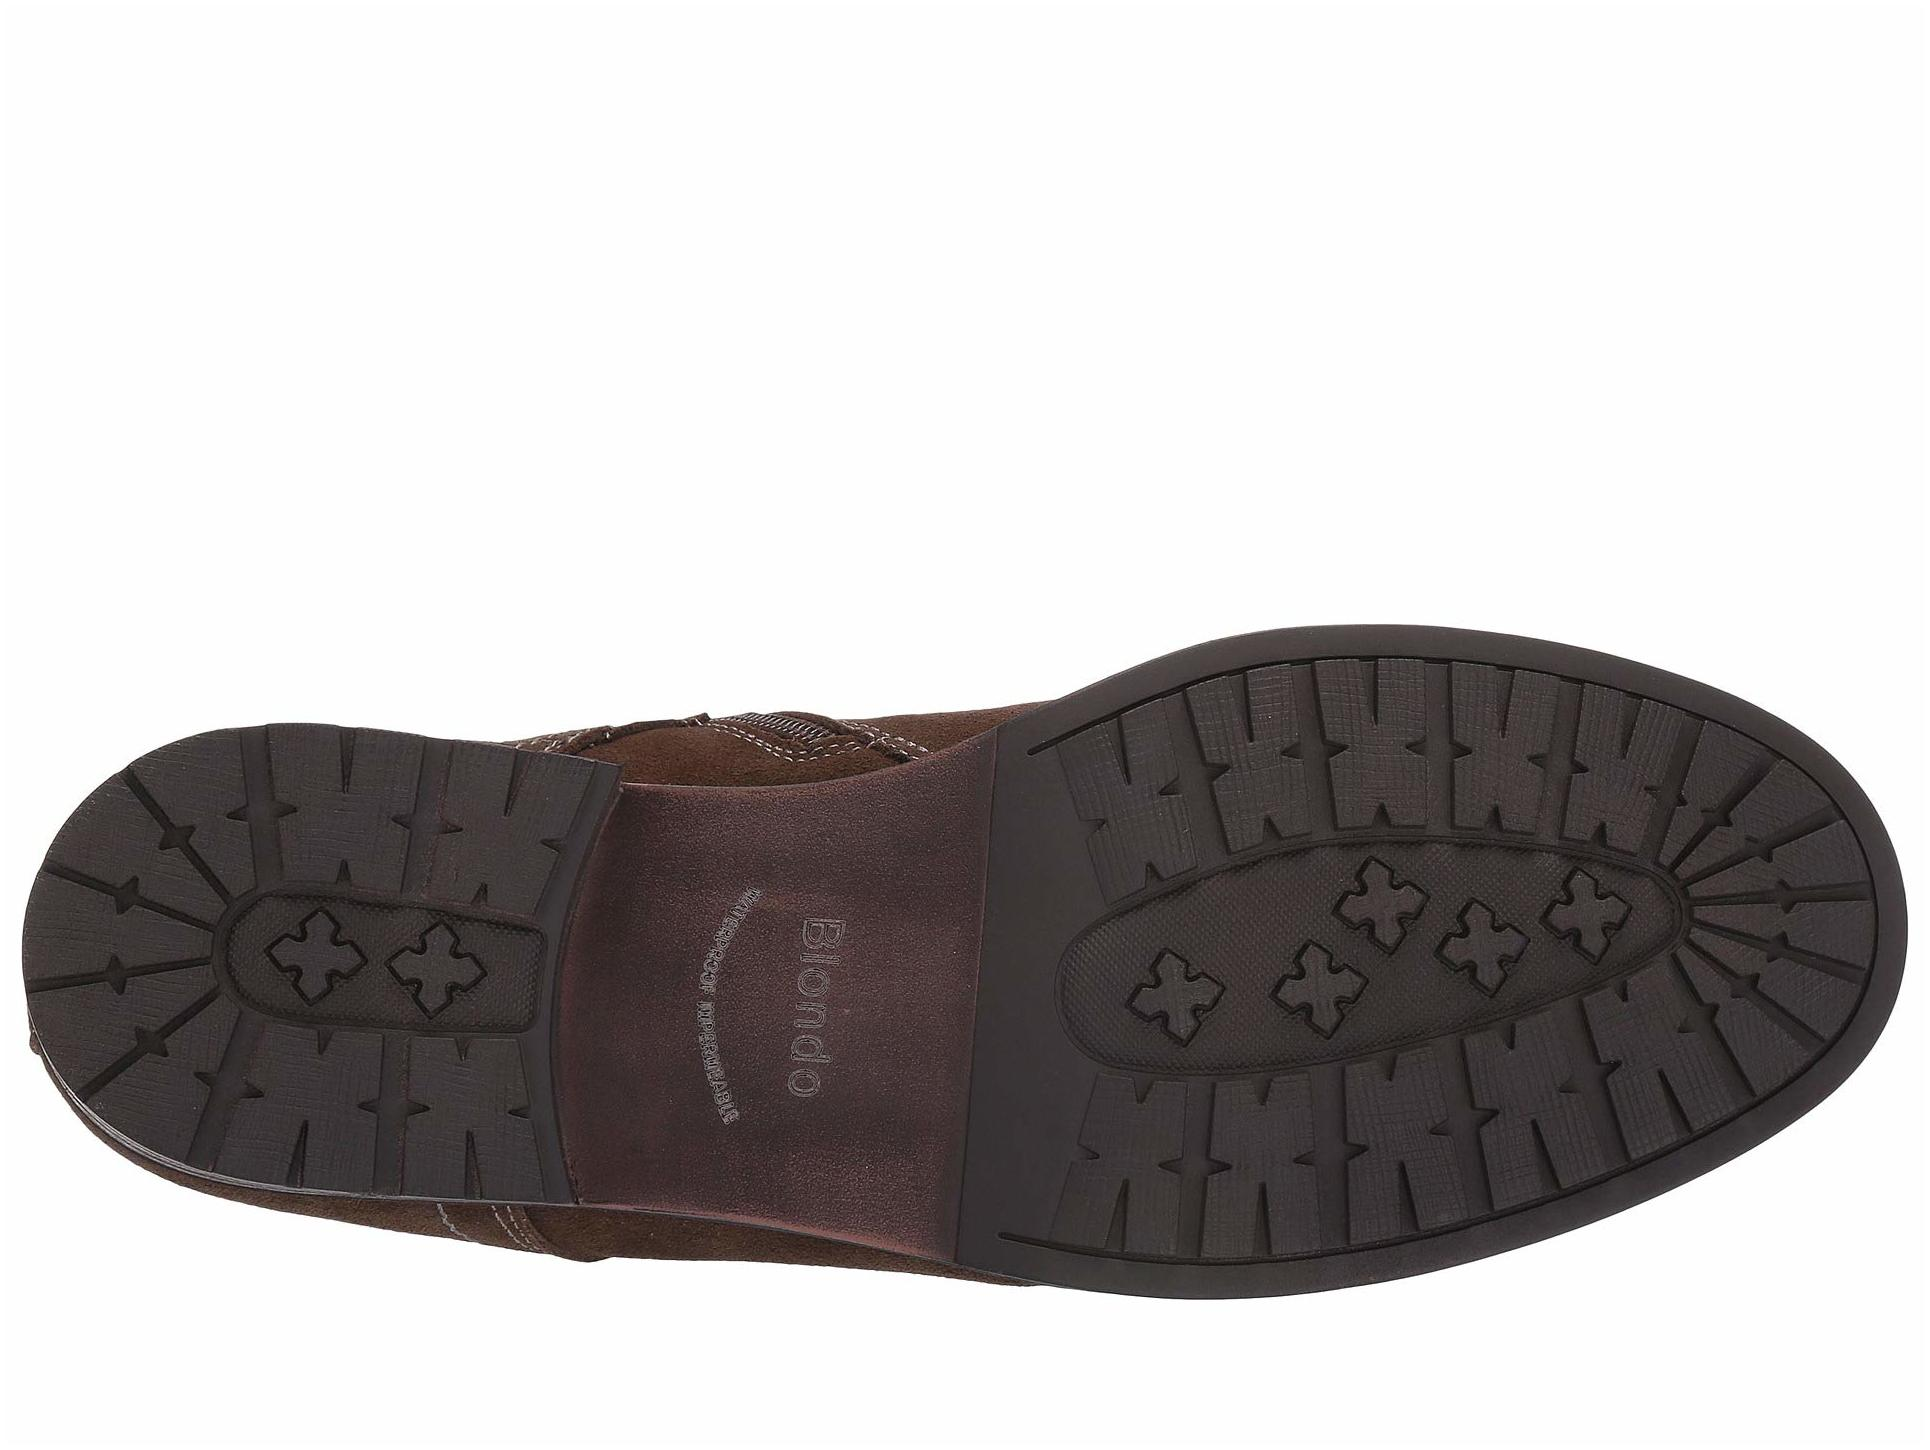bowtie: (2, 762, 248, 1011)
star: (1564, 947, 1753, 1180), (1196, 1068, 1395, 1261), (1298, 621, 1459, 853), (1101, 920, 1231, 1056), (1258, 931, 1383, 1069), (1430, 883, 1548, 1010), (259, 896, 376, 1017)
